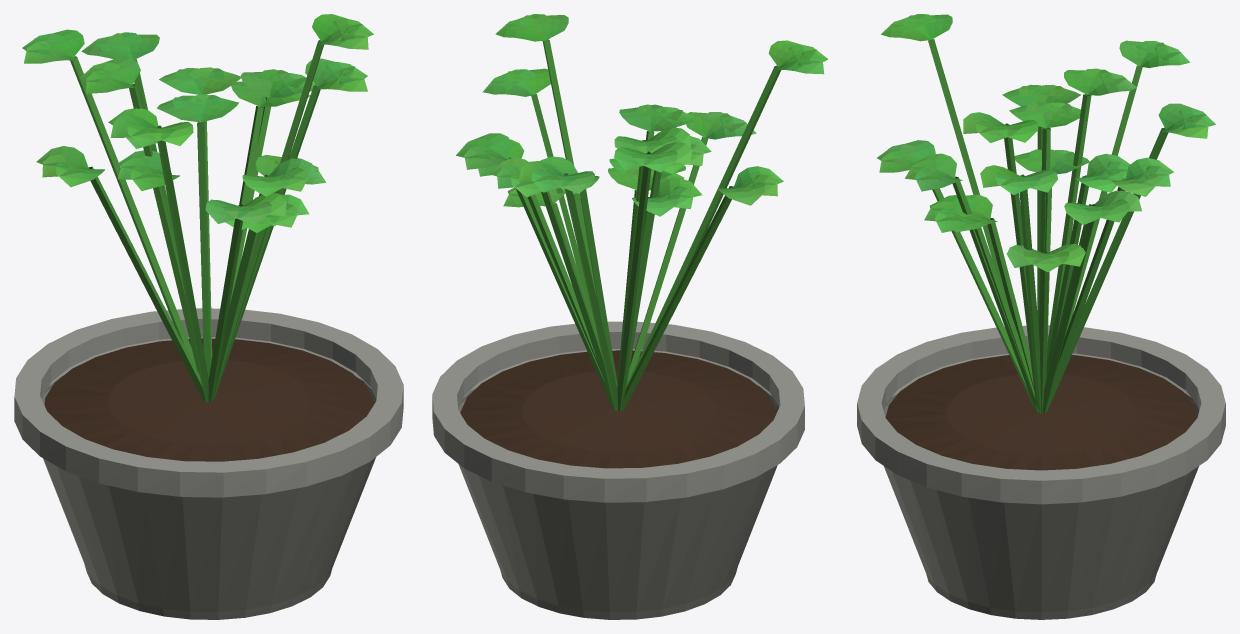
File: salsa.glb
3 renders of one model, left to right at view 1: azimuth 30°, elevation 25°; view 2: azimuth 150°, elevation 25°; view 3: azimuth 270°, elevation 25°, orthographic. The views are drawn at different scales.
Parts seen in each view (by area): view 1: salsa; view 2: salsa; view 3: salsa.
Part boxes in pixels (bbox=[...]): salsa: bbox=[14, 14, 403, 619]; salsa: bbox=[432, 14, 828, 619]; salsa: bbox=[857, 14, 1225, 619].
Size of the model in its own units: 0.159 by 0.2374 by 0.159.
1 material, 1 textured.
